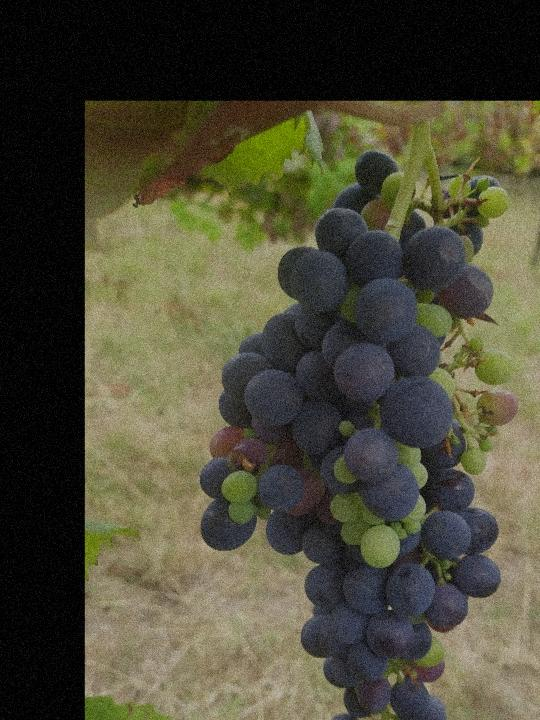grape: (196, 149, 525, 720)
